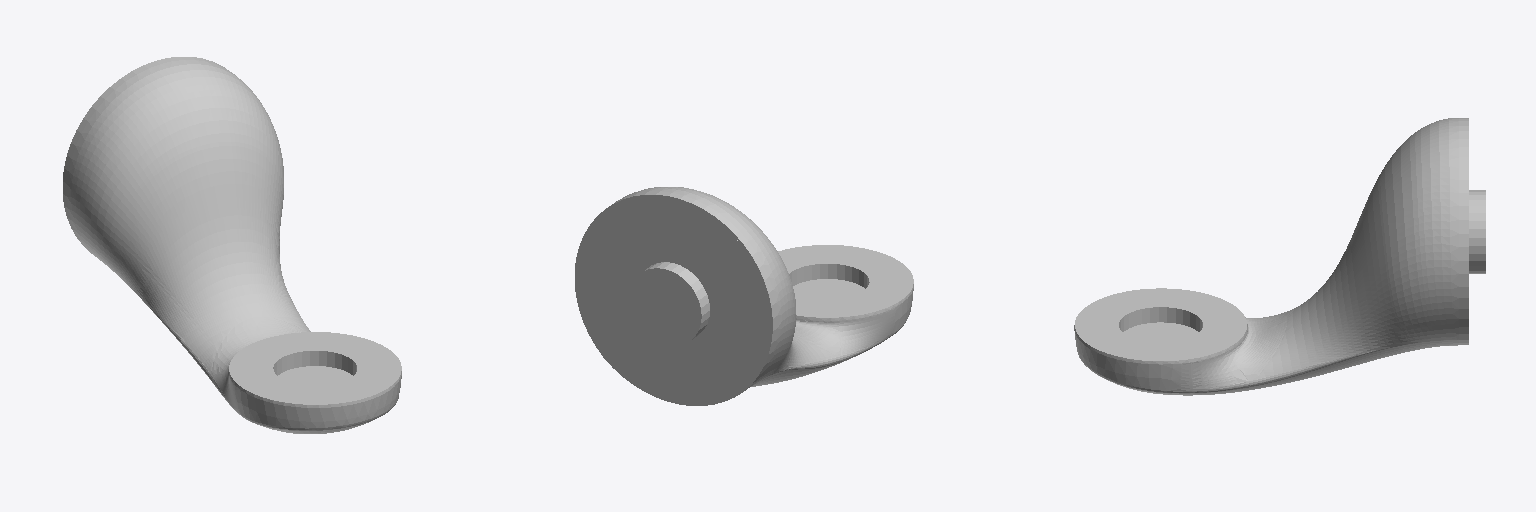
3 renders of one model, left to right at view 1: azimuth 30°, elevation 25°; view 2: azimuth 150°, elevation 25°; view 3: azimuth 270°, elevation 25°, orthographic.
Parts seen in each view (by area): view 1: link_5; view 2: link_5; view 3: link_5.
Boxes of the visible parts, box(x1,y1,x2,y2) form: link_5: box(63, 57, 401, 433); link_5: box(575, 187, 913, 405); link_5: box(1074, 118, 1485, 395).
Bounding box in the file's own units: 0.1358 × 0.167 × 0.2439.